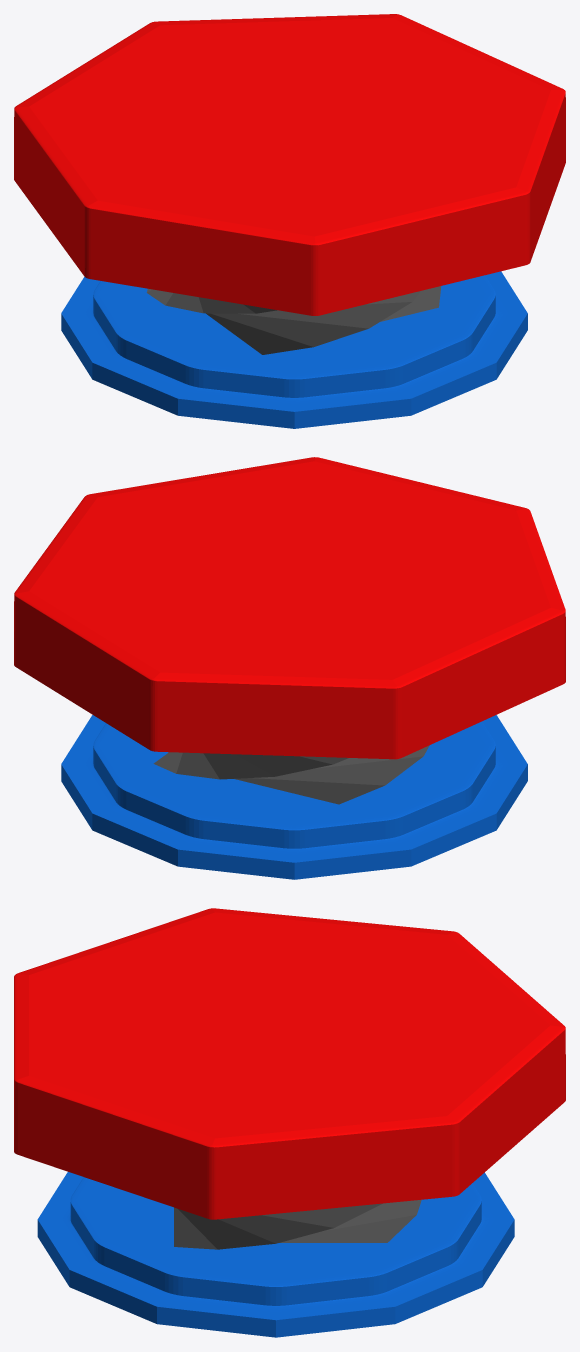
Rendered from JumpTable.fbx.
3 views of the same model, one above another, from view 1: azimuth 30°, elevation 25°; view 2: azimuth 150°, elevation 25°; view 3: azimuth 270°, elevation 25° (orthographic). The views are drawn at different scales.
Parts seen in each view (by area): view 1: 円柱.004, 平面.001; view 2: 円柱.004, 平面.001; view 3: 円柱.004, 平面.001.
Boxes of the visible parts, bbox=[...] form: 円柱.004: bbox=[14, 14, 565, 428]; 平面.001: bbox=[146, 286, 441, 354]; 円柱.004: bbox=[14, 457, 565, 879]; 平面.001: bbox=[153, 745, 429, 804]; 円柱.004: bbox=[14, 908, 565, 1337]; 平面.001: bbox=[174, 1199, 421, 1249].
Size of the model in its own units: 3.02 by 1.25 by 2.95.
